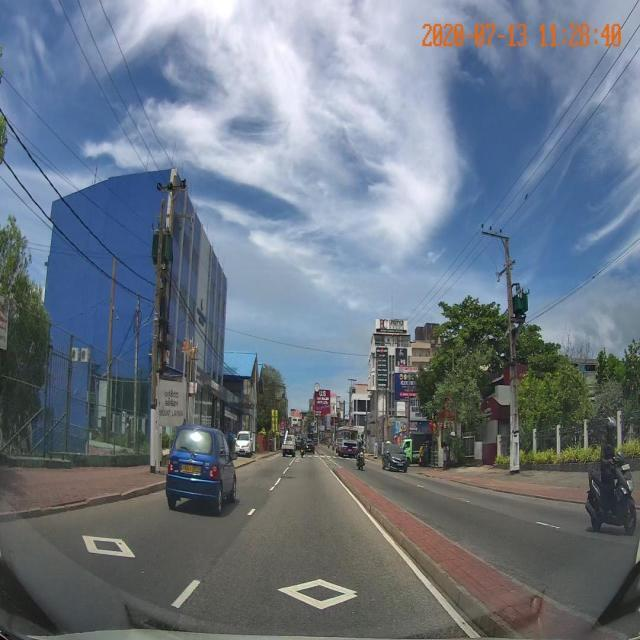Liniya 1: (329, 469, 483, 638), (169, 578, 202, 610), (269, 477, 281, 492), (247, 508, 256, 516), (282, 466, 290, 475)
Romb: (276, 577, 357, 611), (82, 533, 135, 557)
